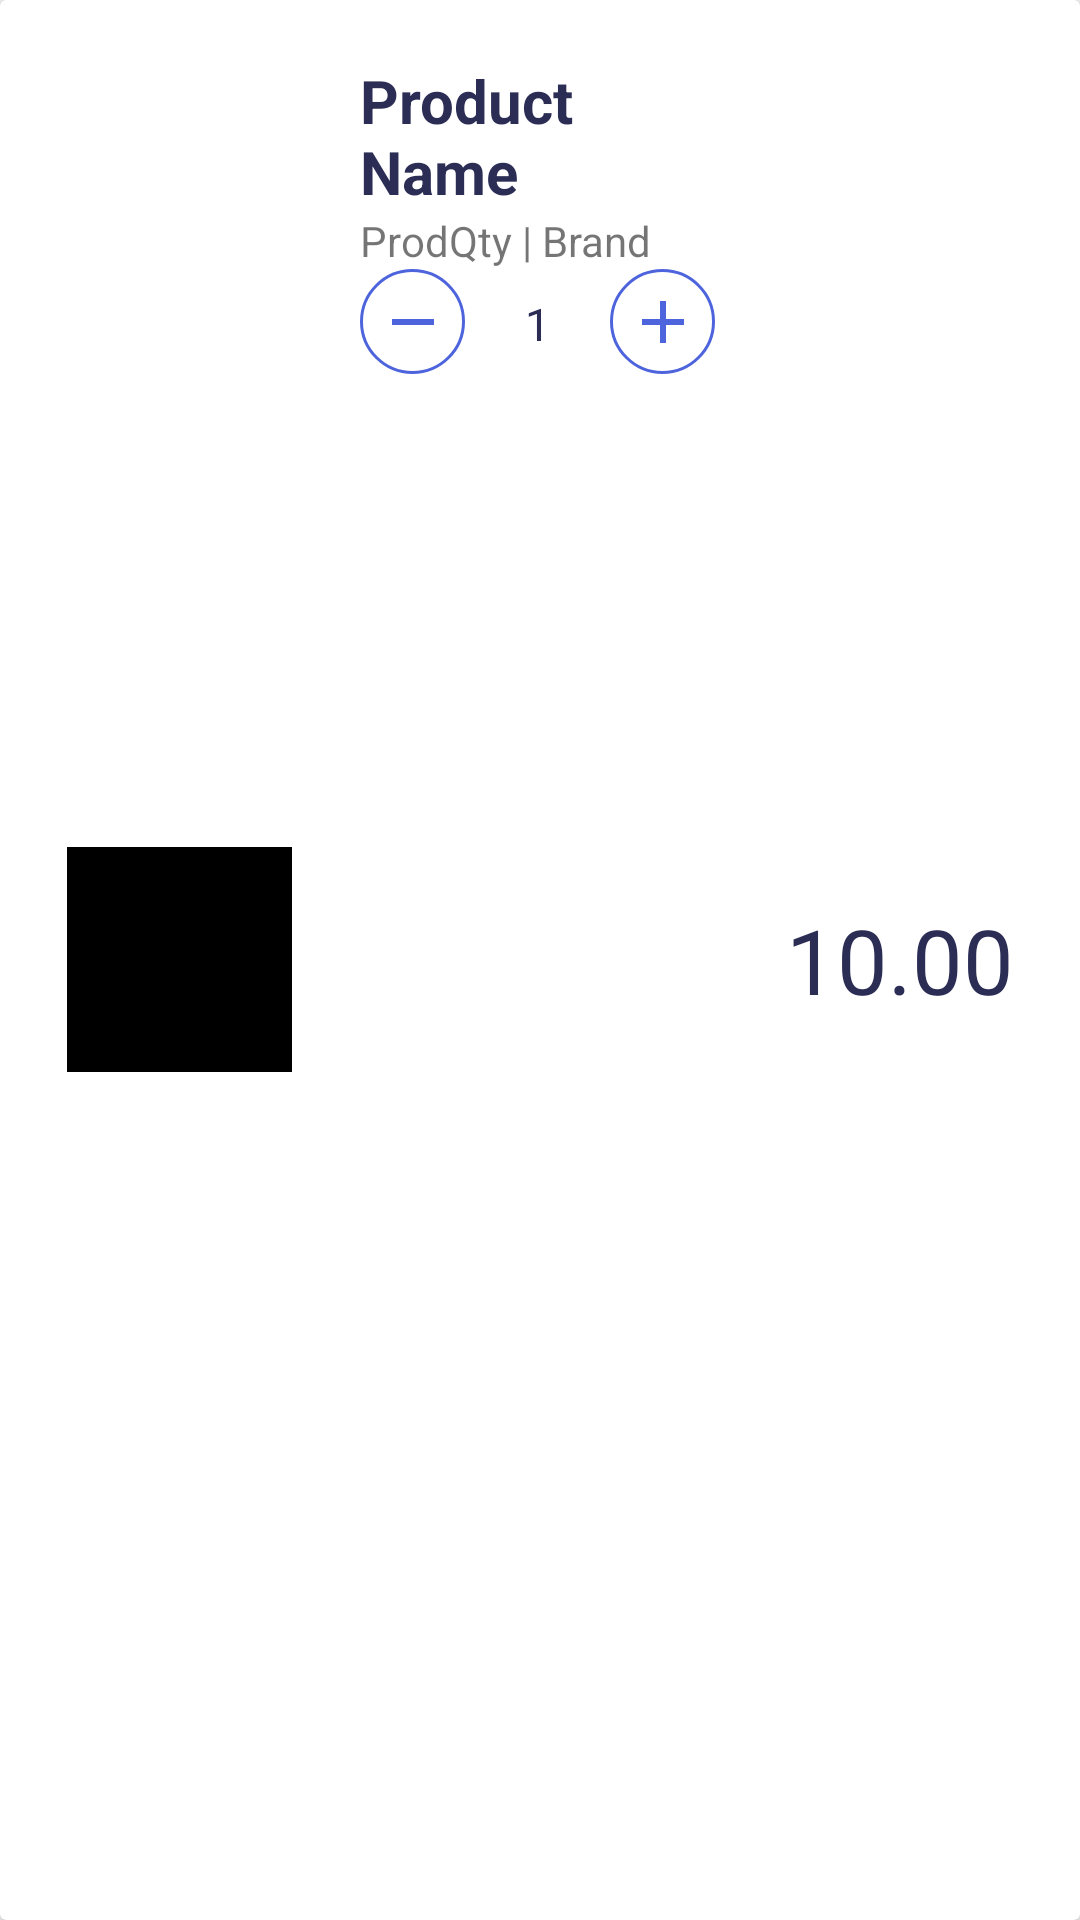

Point at icon controls on the screen. Image size 1080 × 1920, points as (x=x, y=y).
add: (x=662, y=321)
decrease: (x=412, y=321)
